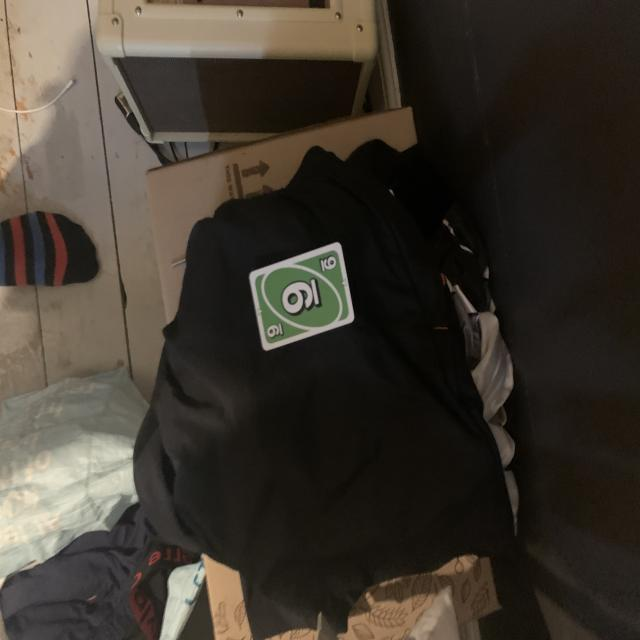lgreen-9: (316, 252, 339, 273)
